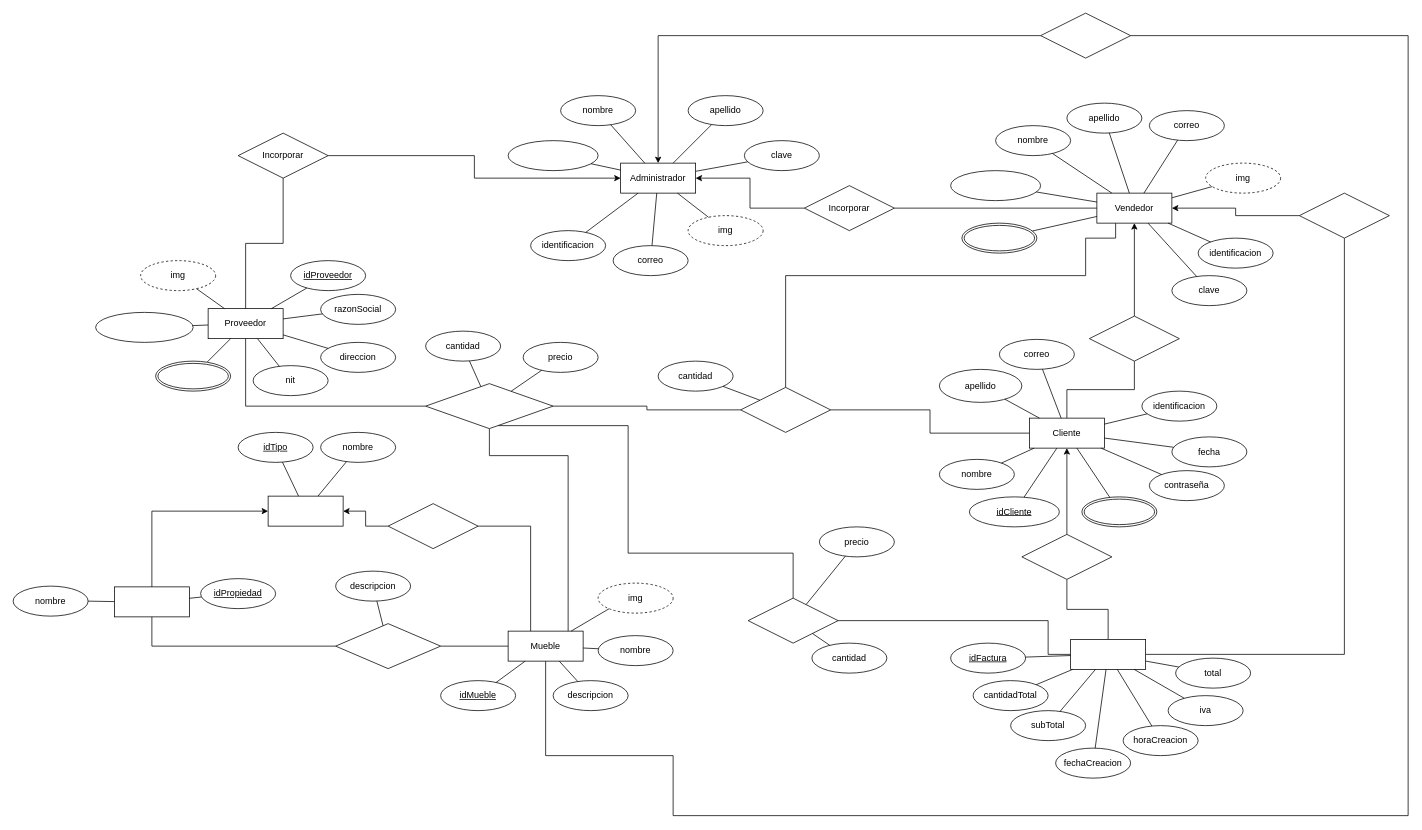
The diagram is 1422 pixels wide and 830 high, and some of its shapes have lost their labels. The shapes that lost their labels are listed below. From the top down, each one's centre as x and y in pixels, then its label:
At [1085,35]: "Incluir".
At [552,155]: "idAdministrador".
At [995,185]: "idVendedor".
At [1344,215]: "Genera".
At [999,237]: "telefonosV".
At [144,327]: "personaContacto".
At [1134,338]: "Crea".
At [193,375]: "telefonosP".
At [489,406]: "PedidoMueble".
At [785,409]: "Cotizacion".
At [305,510]: "Tipo".
At [432,526]: "contiene".
At [1119,511]: "telefonosC".
At [1066,556]: "Paga".
At [151,601]: "Propiedad".
At [792,620]: "DetalleFactura".
At [388,646]: "MueblePropiedad".
At [1108,654]: "Factura".
